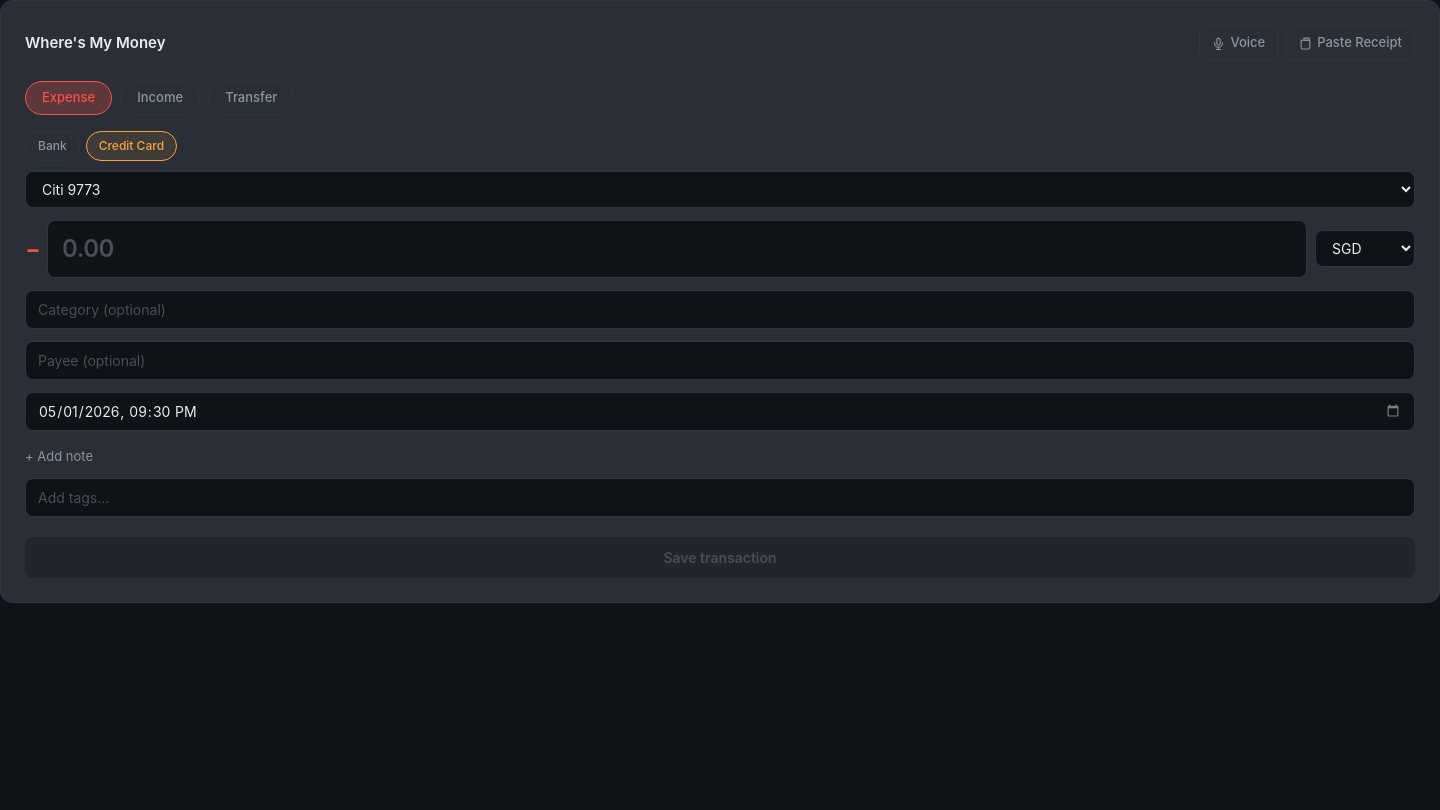
Test: BUG-029: tag suggestions exclude category-named entries › still suggests tags whose names do not match any category
Type "week" into the field with placeholder "Add tags..." at (720, 498), box top-left (25, 478), bottom-right (1415, 517)
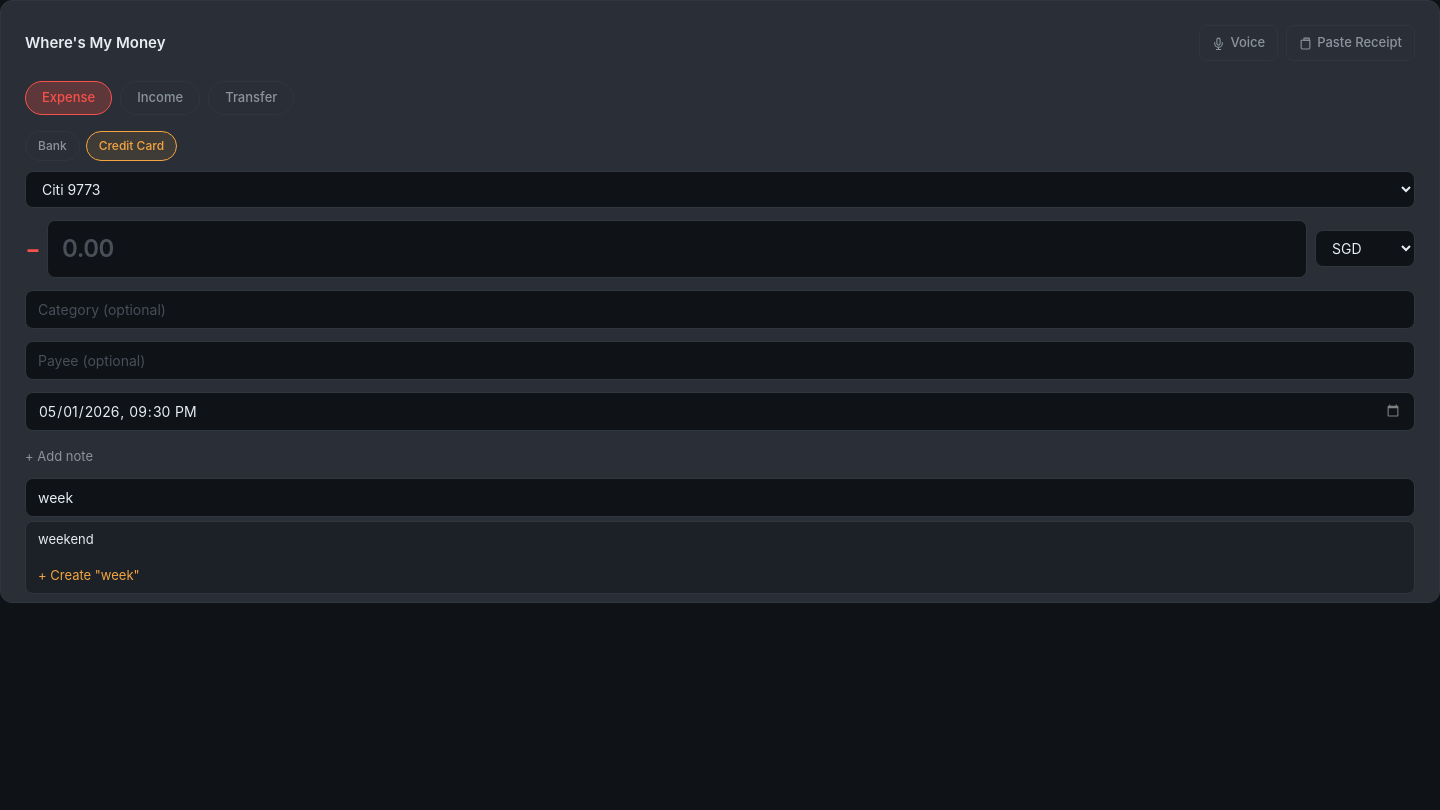
Result: the text "weekend" is shown at top-left (38, 531), bottom-right (94, 547)
